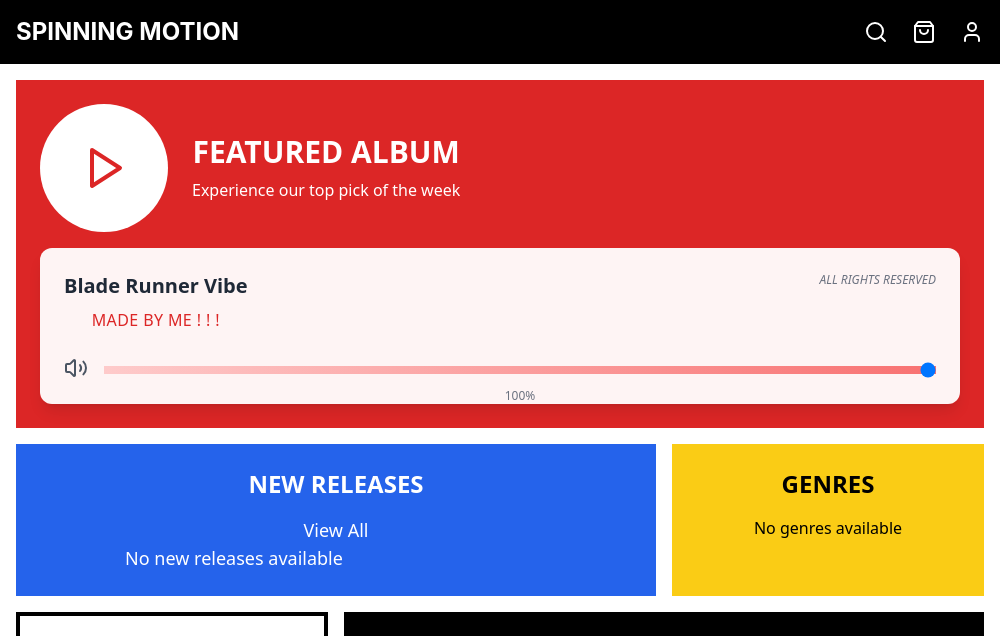
Scenario: Authentication › Login Flow › should show validation errors for invalid login inputs
Click the 2nd button: click(972, 32) top-left (960, 20), bottom-right (984, 44)
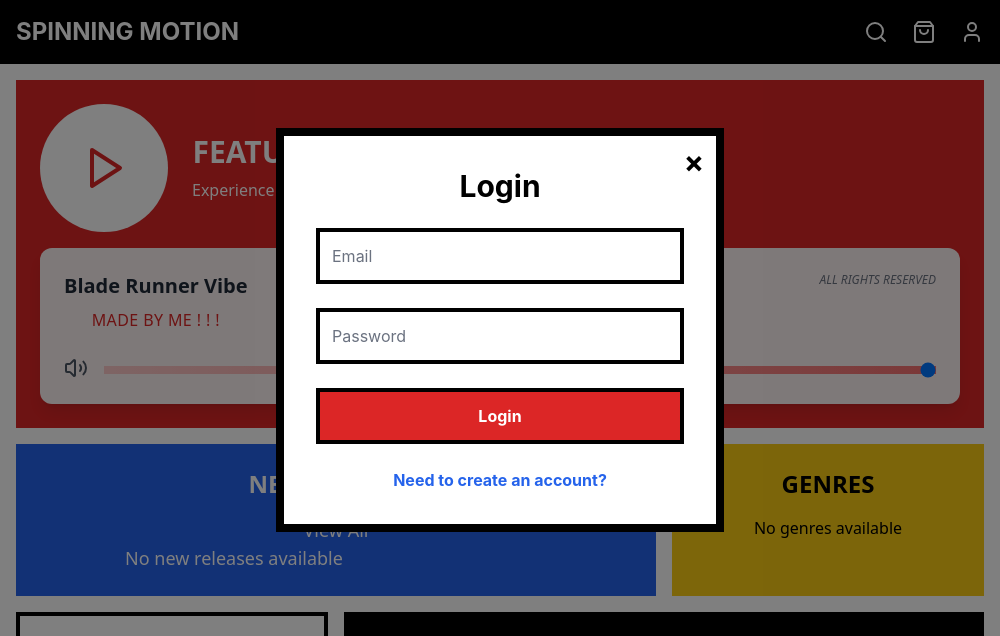
Now the form is shown, box top-left (316, 228), bottom-right (684, 444)
Click the submit button: click(500, 416) top-left (316, 388), bottom-right (684, 444)
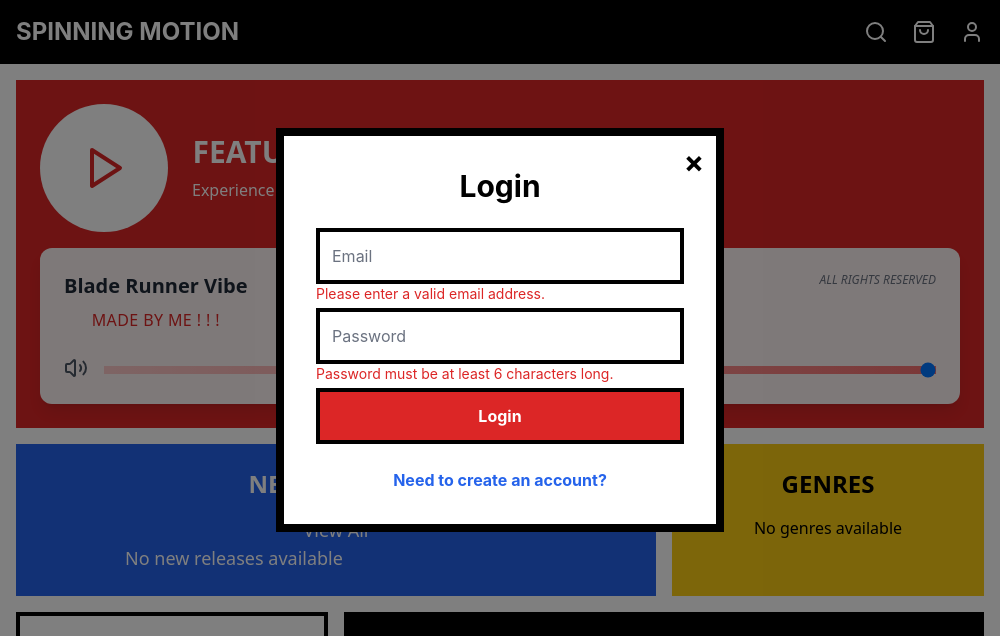
Now the text "Please enter a valid email address" is shown, box top-left (316, 285), bottom-right (545, 302)
Now the text "Password must be at least 6 characters long" is shown, box top-left (316, 365), bottom-right (613, 382)
